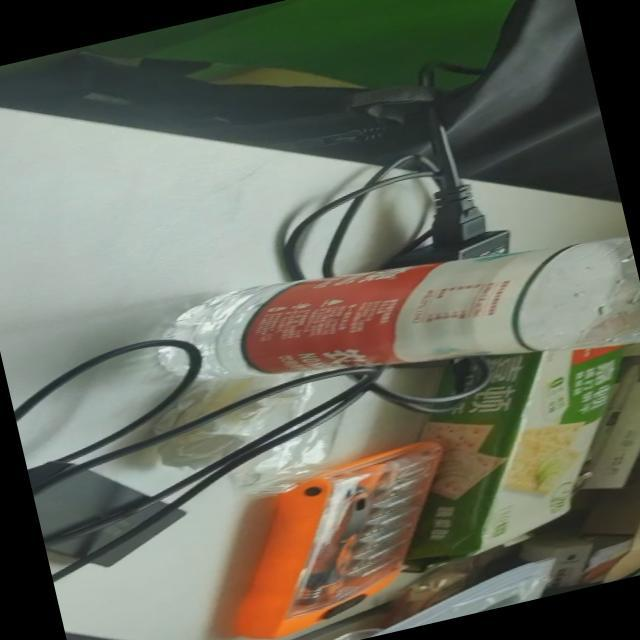good: (137, 197, 640, 452)
